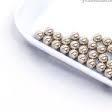ironball: (86, 57, 99, 70), (43, 26, 54, 37), (68, 48, 79, 59), (76, 53, 87, 64), (59, 43, 69, 54), (98, 53, 108, 64), (96, 43, 106, 54), (79, 44, 87, 57), (101, 35, 111, 45), (34, 30, 43, 41), (78, 35, 89, 44), (103, 67, 111, 79), (69, 31, 79, 40), (43, 35, 52, 45), (51, 40, 61, 49), (52, 31, 63, 39), (70, 41, 79, 50), (92, 32, 101, 41), (61, 36, 70, 45), (96, 63, 106, 71), (89, 39, 96, 49), (107, 43, 111, 54), (106, 60, 111, 68)
